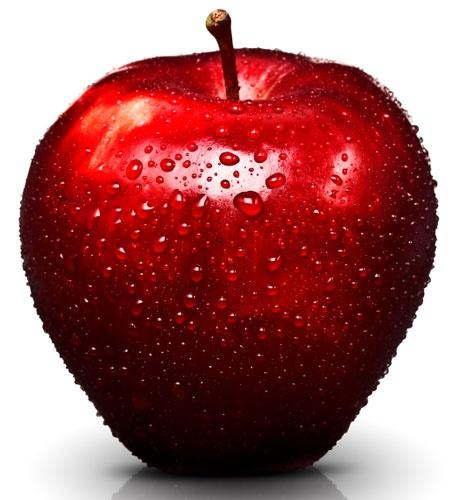apple: (14, 21, 443, 496)
